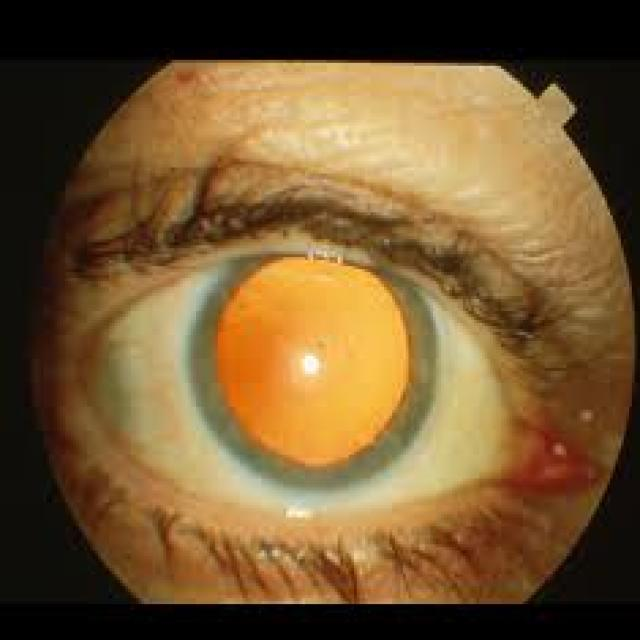reflexo-normal: (135, 243, 437, 510)
